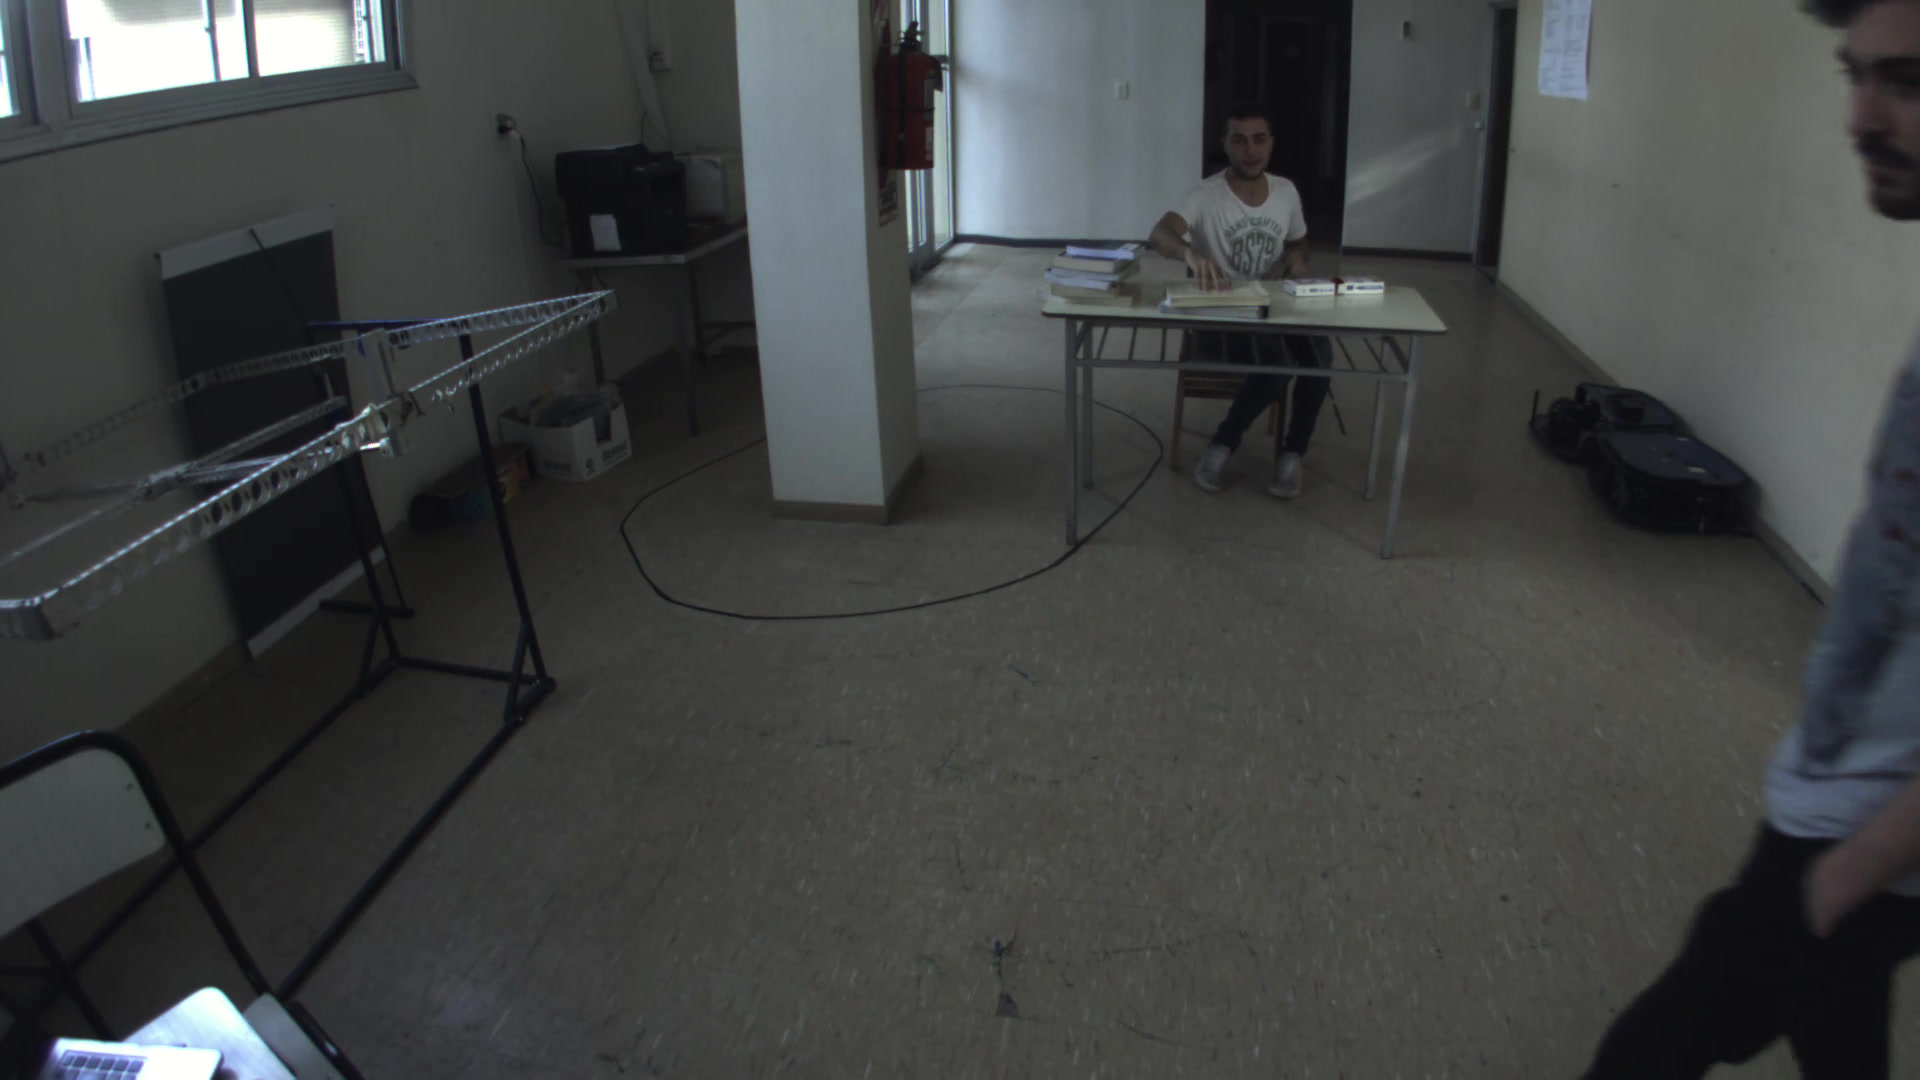hand: (1174, 245, 1240, 301)
